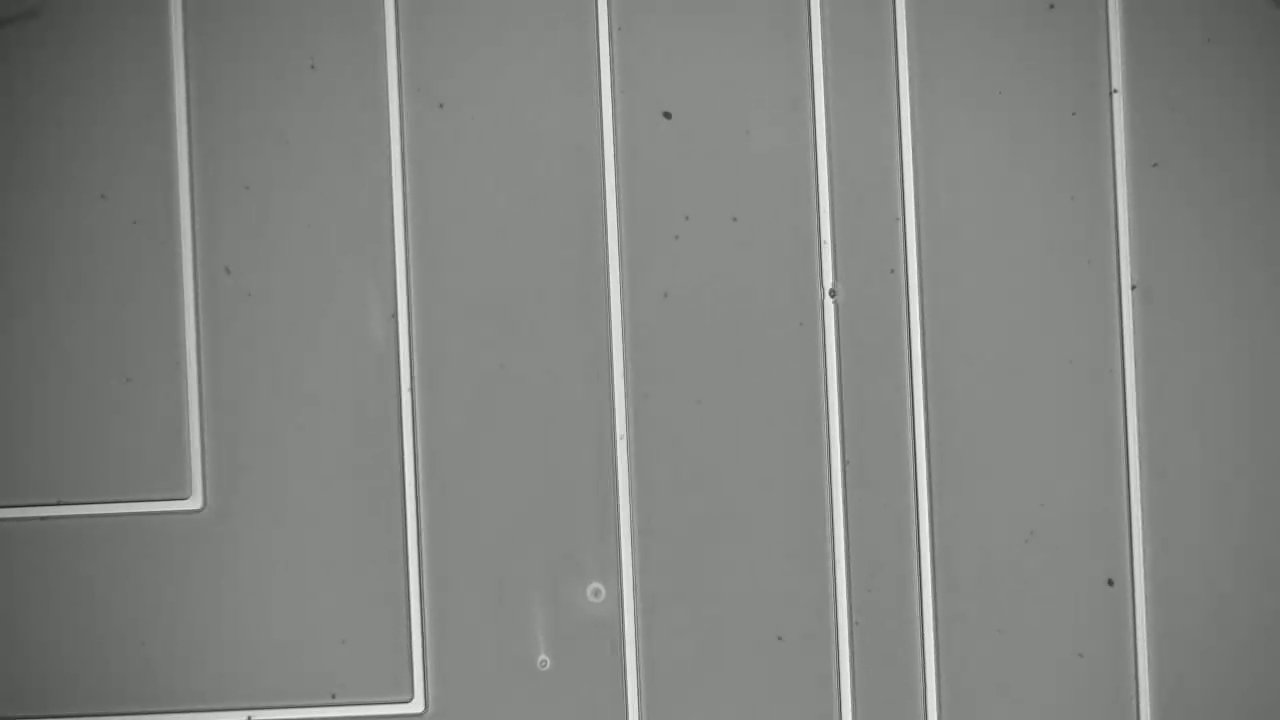stains_enbedded: (815, 280, 843, 305)
